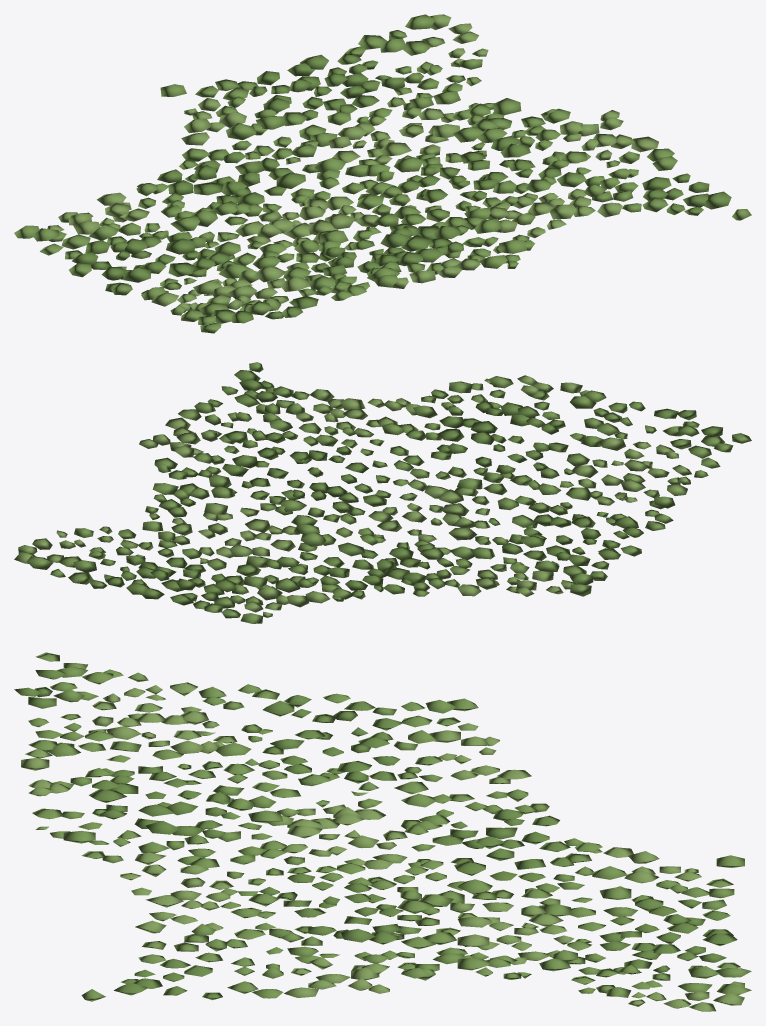
The model's file is canopy-1--5--2.glb.
3 renders of one model, top to bottom at view 1: azimuth 30°, elevation 25°; view 2: azimuth 150°, elevation 25°; view 3: azimuth 270°, elevation 25°, orthographic. The views are drawn at different scales.
Size of the model in its own units: 518 by 67.5 by 520.
1 material, 1 textured.
